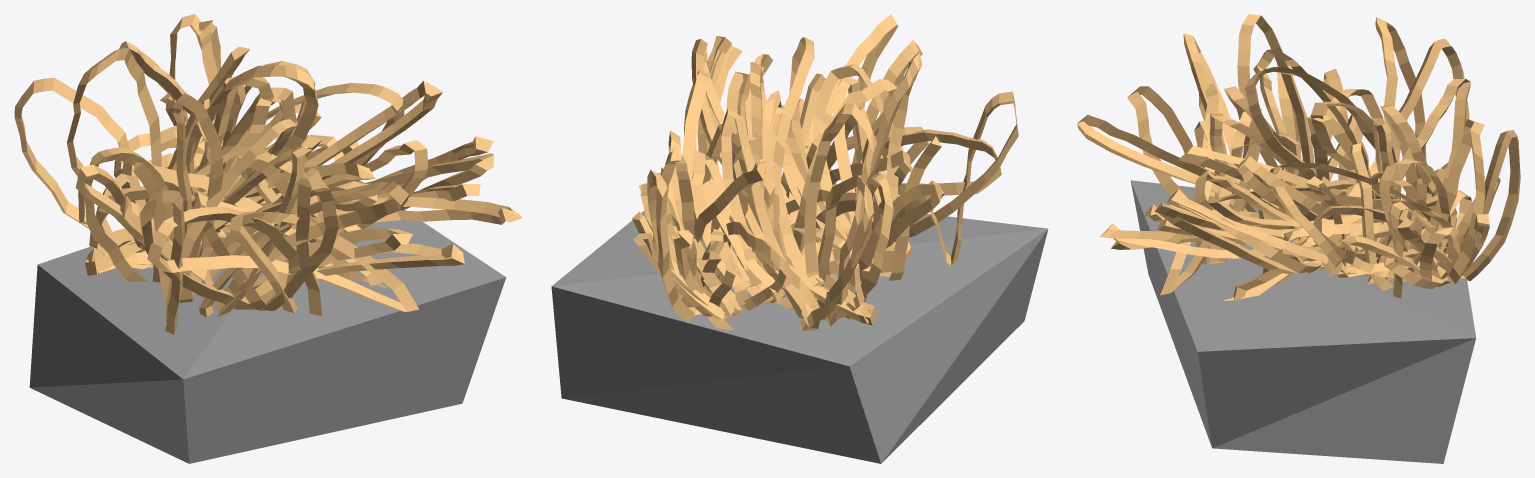
File: CritterBase.fbx
The picture shows the model from 3 angles, left to right: view 1: azimuth 30°, elevation 25°; view 2: azimuth 150°, elevation 25°; view 3: azimuth 270°, elevation 25°; orthographic projection. The views are drawn at different scales.
Visible parts, largest first — view 1: mesh_1252645490, group_1834192133, group_1580305068, group_1278781176, group_424214657; view 2: mesh_1252645490, group_1580305068, group_1834192133, group_1278781176, group_424214657; view 3: mesh_1252645490, group_1580305068, group_1834192133, group_1278781176, group_424214657.
Part boxes in pixels (x1,y1,x2,y2): mesh_1252645490: [29, 180, 506, 463]; group_1834192133: [14, 47, 464, 334]; group_1580305068: [75, 46, 386, 317]; group_1278781176: [119, 14, 493, 279]; group_424214657: [251, 153, 521, 235]; mesh_1252645490: [551, 190, 1048, 463]; group_1580305068: [632, 77, 944, 330]; group_1834192133: [691, 14, 1018, 329]; group_1278781176: [647, 36, 873, 323]; group_424214657: [710, 45, 788, 202]; mesh_1252645490: [1130, 180, 1476, 463]; group_1580305068: [1201, 68, 1500, 300]; group_1834192133: [1077, 14, 1469, 295]; group_1278781176: [1166, 78, 1520, 284]; group_424214657: [1100, 202, 1310, 273].
Bounding box in the file's own units: 54.3 × 51.06 × 62.7.
